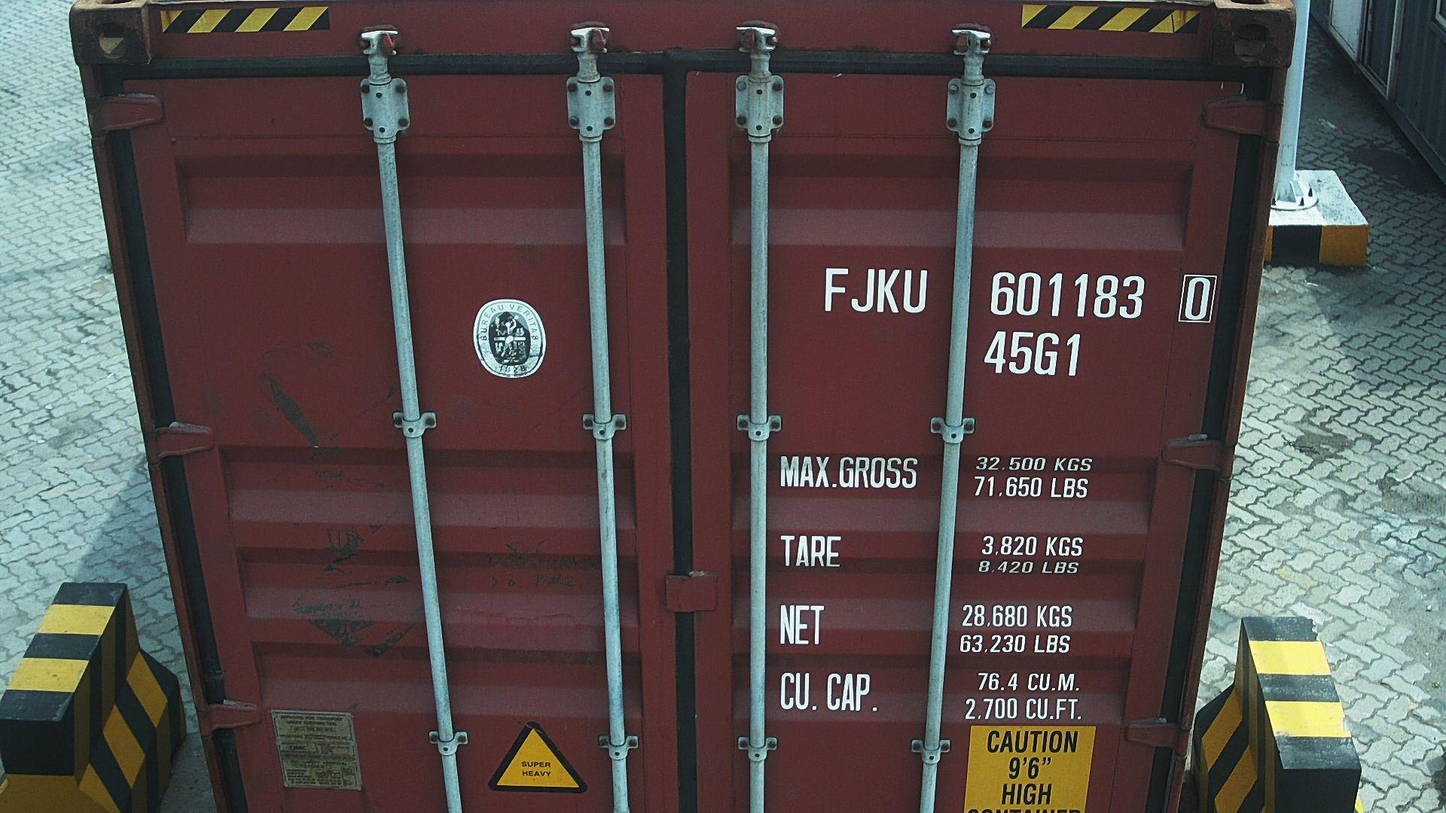container-numbers: (816, 265, 1222, 326), (981, 329, 1085, 379)
